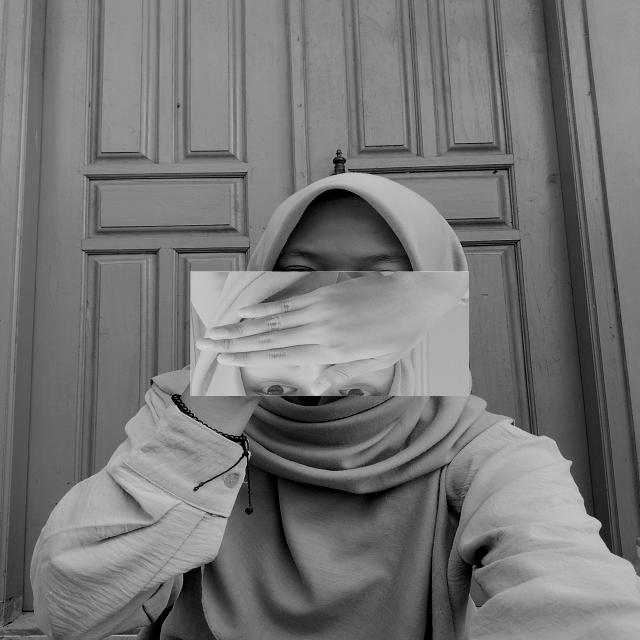buruk: (190, 271, 469, 396)
